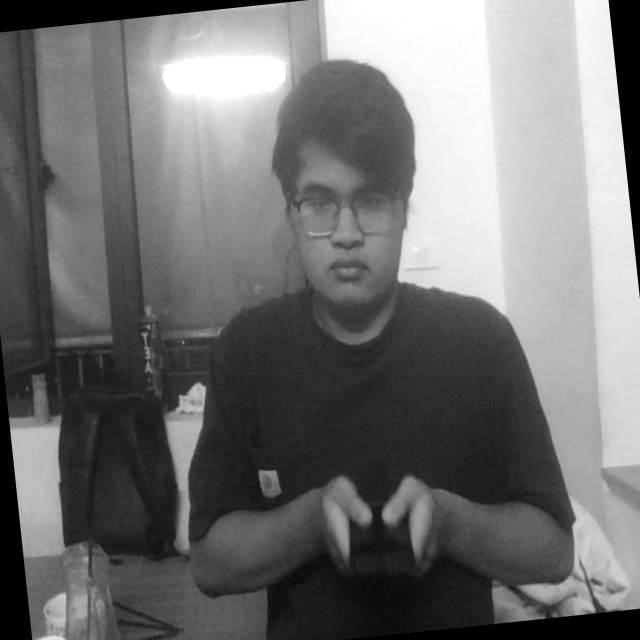phone: (334, 468, 428, 602)
